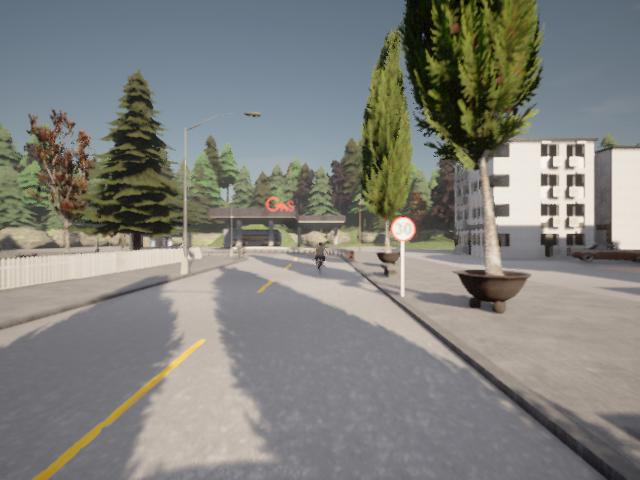6: (391, 218, 417, 241)
motobike: (313, 242, 327, 273)
